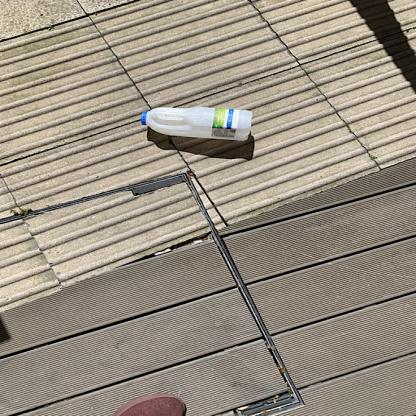trash: (135, 104, 257, 142)
